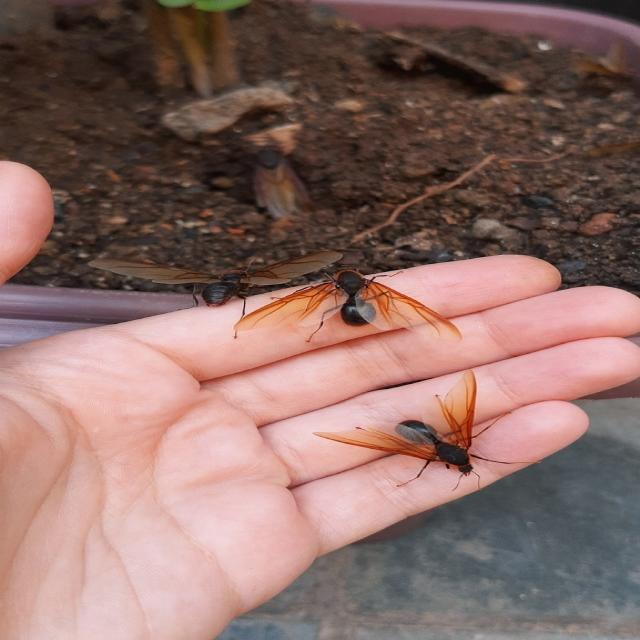Alive-Male-Alate: (311, 368, 542, 492), (86, 250, 343, 340), (232, 268, 462, 342)
